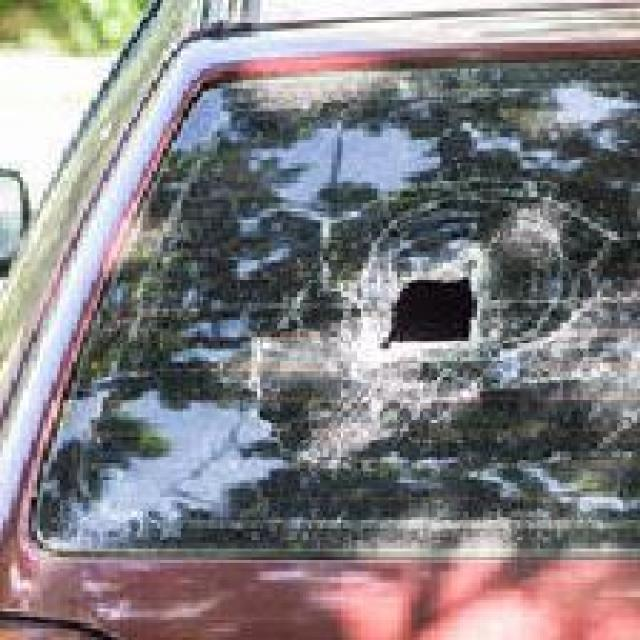damaged: (240, 177, 637, 469)
